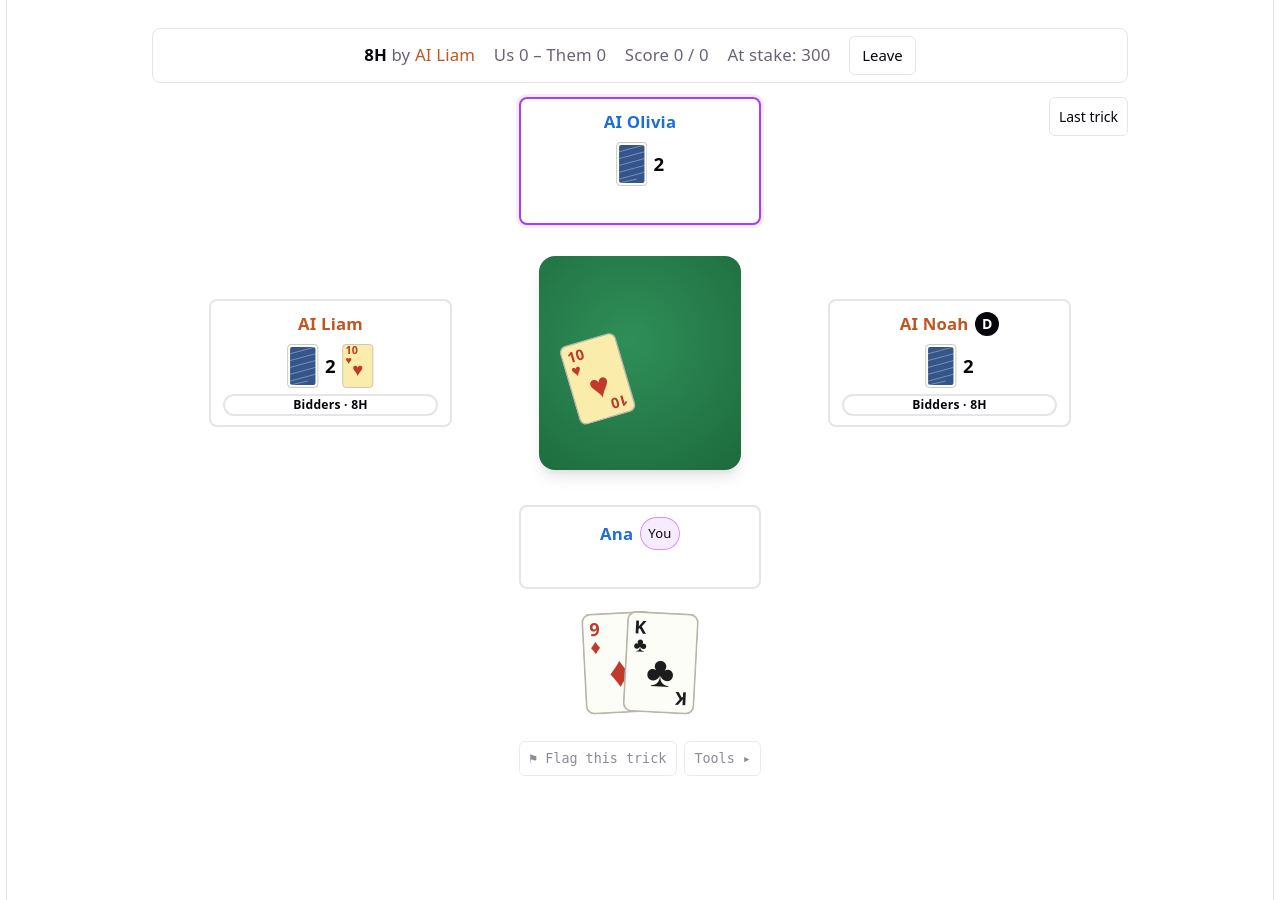
last-trick peek › pops the previous trick with seat labels and the winner ringed
Click the button with test id "last-trick-toggle": (1088, 116) [1049,97,1128,136]
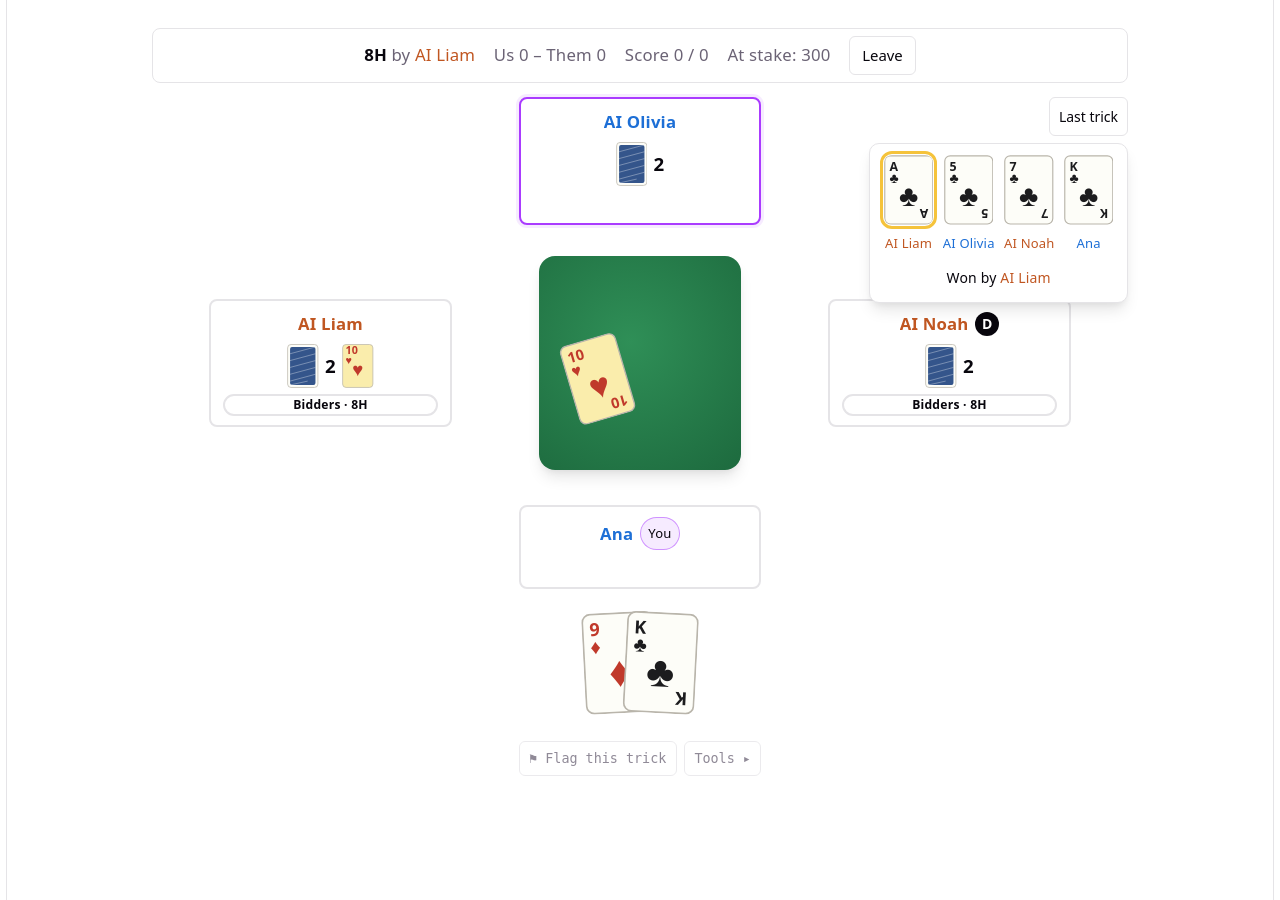
Now the element with test id "last-trick-winner" reads "Won by AI Liam", box [946,268,1051,287]
Click the button with test id "last-trick-toggle": (1088, 116) [1049,97,1128,136]
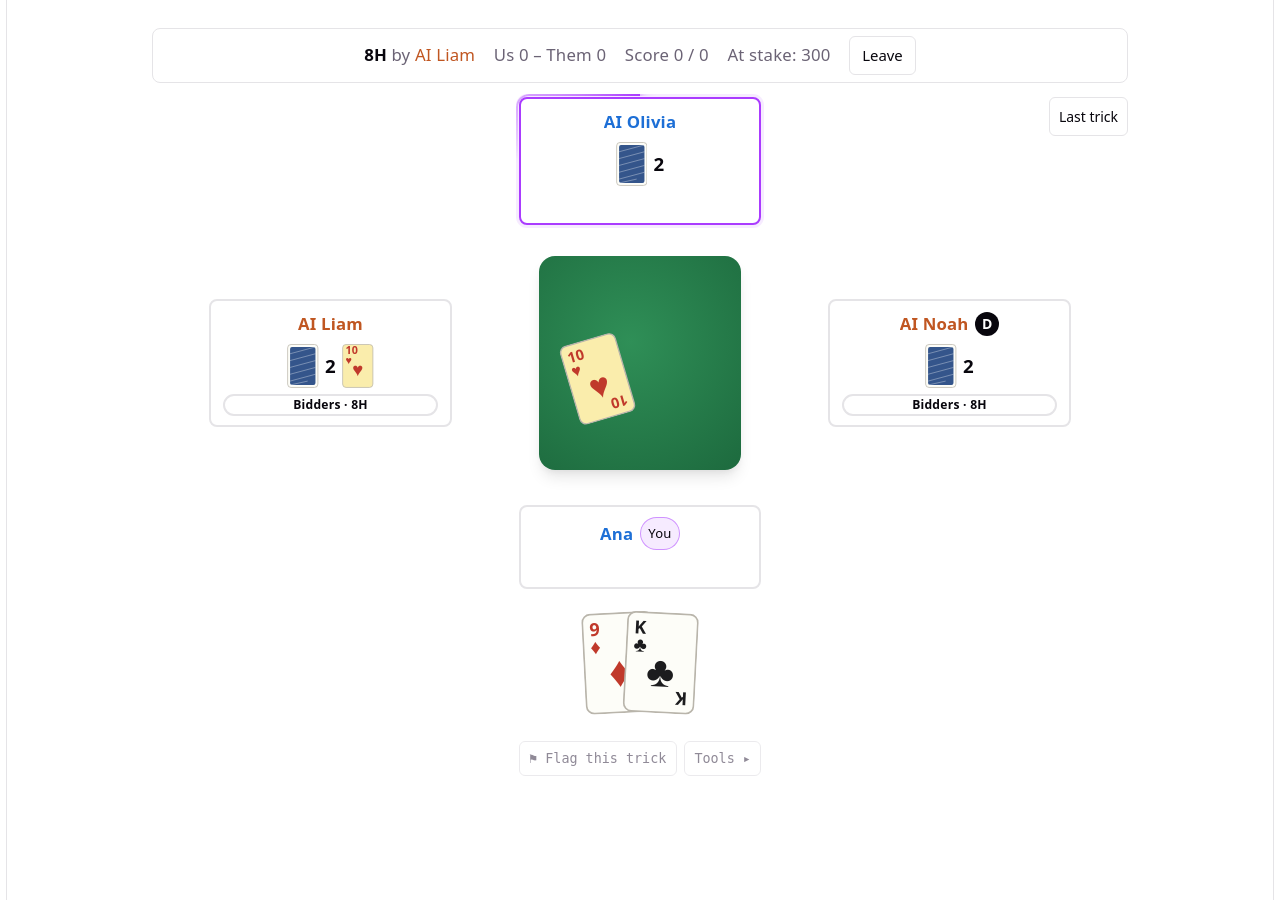
Now the dialog with test id "last-trick-popover" is gone
